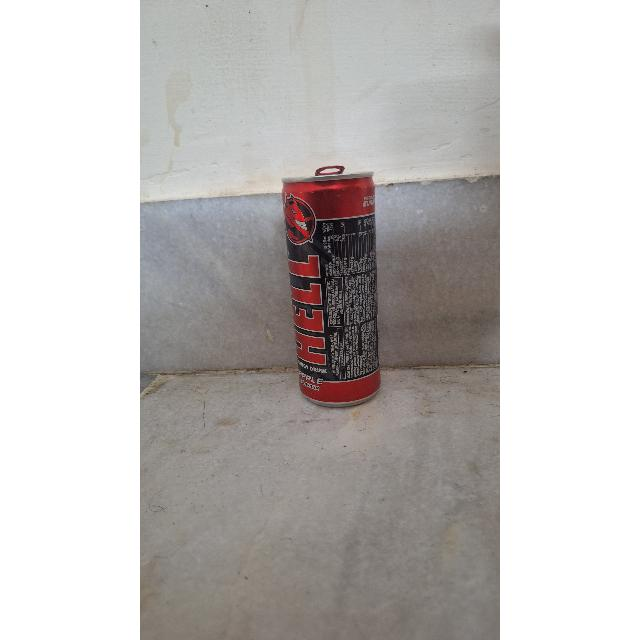Hell Apple: (269, 162, 389, 408)
